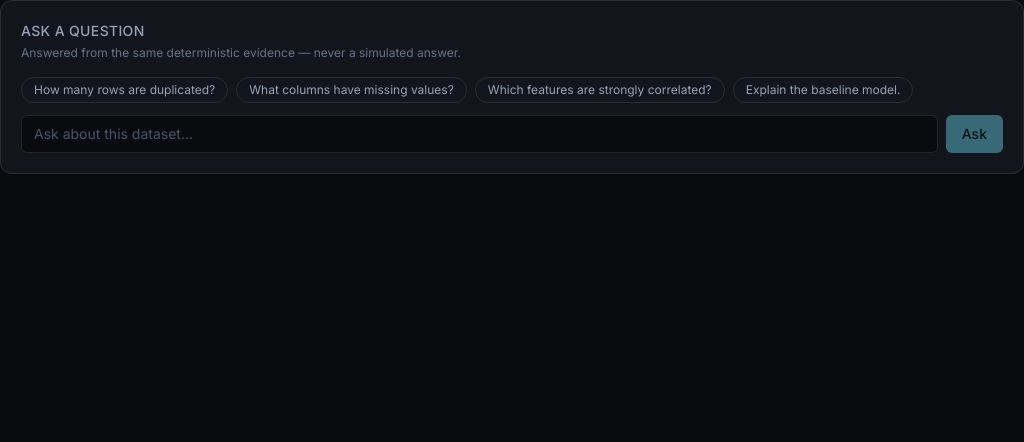
Test: QaPanel › asks a question and renders the grounded deterministic answer plus the AI explanation
Click the button "How many rows are duplicated?": (125, 90) [21,77,228,103]
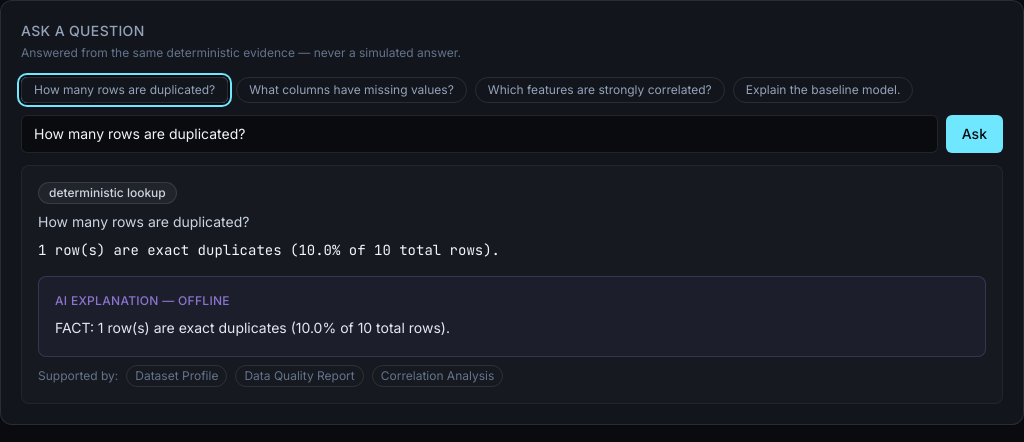
Expected: the text "1 row(s) are exact duplicates (10.0% of 10 total rows)." is shown, [38,241,500,259]
Expected: the text "AI explanation — offline" is shown, [55,293,230,308]
